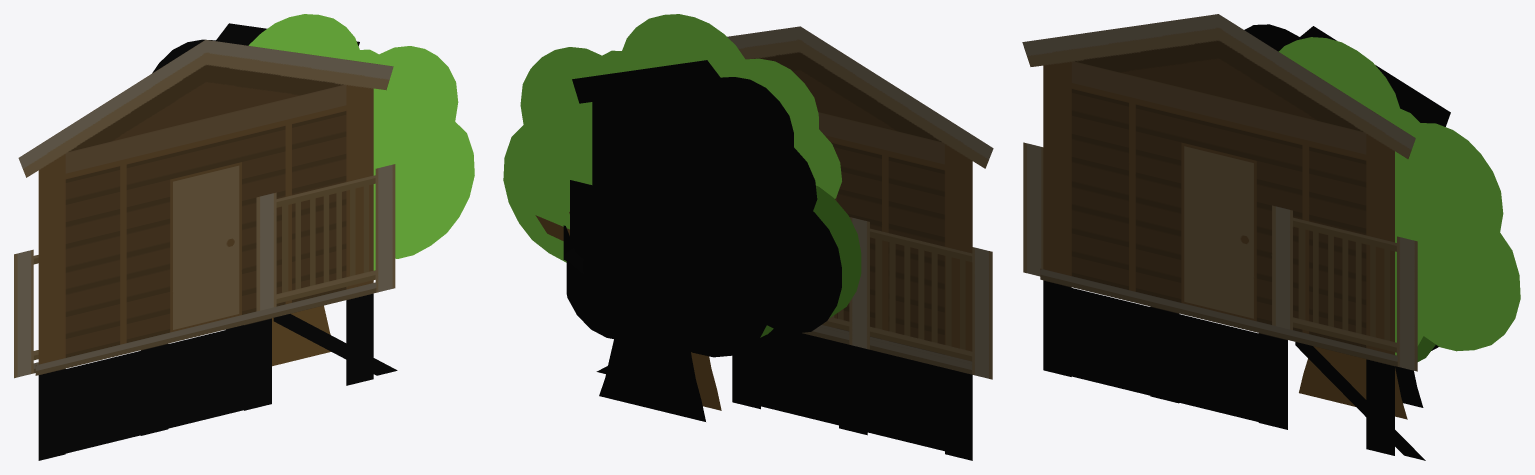
Rendered from house_woods_shadow.fbx.
3 renders of one model, left to right at view 1: azimuth 30°, elevation 25°; view 2: azimuth 150°, elevation 25°; view 3: azimuth 330°, elevation 25°, orthographic. The views are drawn at different scales.
Parts seen in each view (by area): view 1: s_house_log01, woods2C1, house_under, s_house_log_t01, woods2A1, woods2B_shadow; view 2: woods2B_shadow, s_house_log01, woods2C1, s_house_log_t01, house_under, woods2B1, woods2A1; view 3: s_house_log01, woods2C1, house_under, s_house_log_t01, woods2B_shadow, woods2A1.
Boxes of the visible parts, x1=… form: s_house_log01: x1=18, y1=40, x2=395, y2=460; woods2C1: x1=248, y1=14, x2=474, y2=270; house_under: x1=58, y1=319, x2=271, y2=455; s_house_log_t01: x1=14, y1=249, x2=397, y2=378; woods2A1: x1=272, y1=305, x2=330, y2=366; woods2B_shadow: x1=152, y1=23, x2=359, y2=329; woods2B_shadow: x1=563, y1=60, x2=841, y2=421; s_house_log01: x1=727, y1=26, x2=993, y2=460; woods2C1: x1=503, y1=14, x2=841, y2=262; s_house_log_t01: x1=596, y1=217, x2=992, y2=379; house_under: x1=761, y1=329, x2=944, y2=451; woods2B1: x1=760, y1=185, x2=861, y2=337; woods2A1: x1=535, y1=212, x2=721, y2=410; s_house_log01: x1=1022, y1=14, x2=1417, y2=455; woods2C1: x1=1278, y1=37, x2=1520, y2=355; house_under: x1=1062, y1=285, x2=1285, y2=428; s_house_log_t01: x1=1023, y1=142, x2=1425, y2=460; woods2B_shadow: x1=1244, y1=24, x2=1450, y2=407; woods2A1: x1=1299, y1=346, x2=1407, y2=419.
Bounding box in the file's own units: 502 × 391 × 76.33.
